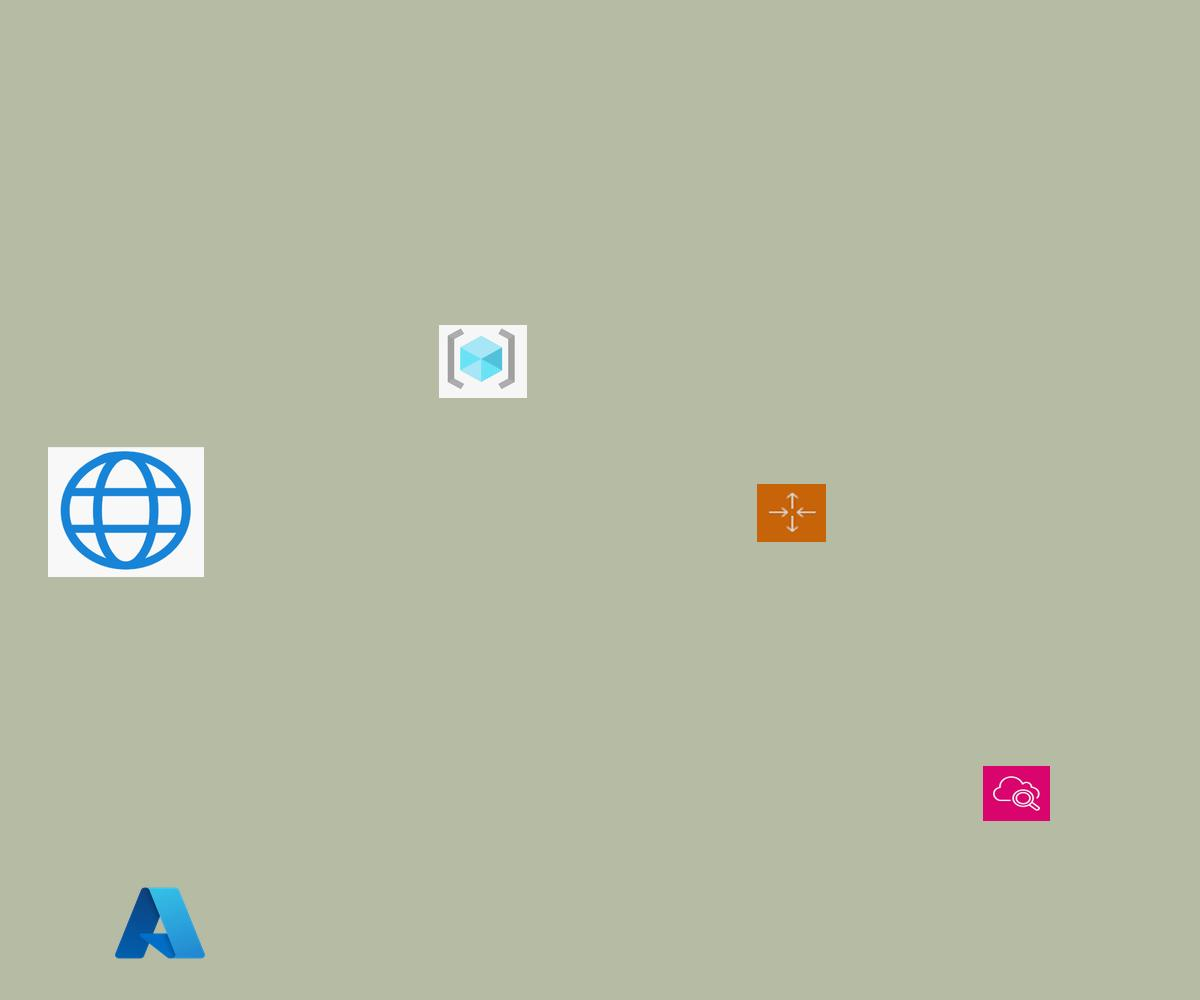AWS-CloudWatch: (983, 766, 1050, 821)
AWS-Scaling-group: (757, 484, 826, 542)
Azure_http: (48, 447, 204, 577)
Azure_resource_group: (439, 325, 527, 398)
Azure_services: (111, 882, 209, 964)
